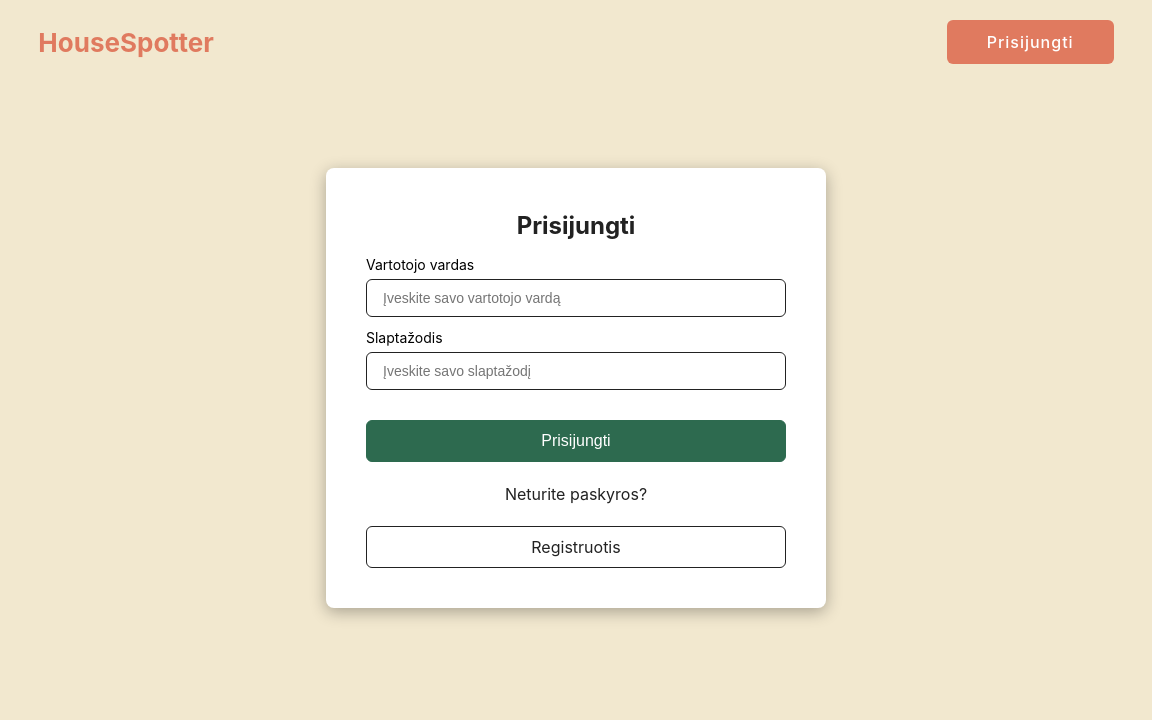
Test: Prisijungimo funkcionalumas › Prisijungimas nepavyksta su neteisingu slaptažodžiu
This screenshot has width=1152, height=720.
Type "user" into the field named "text" at (576, 298), box 366,279 -> 786,317
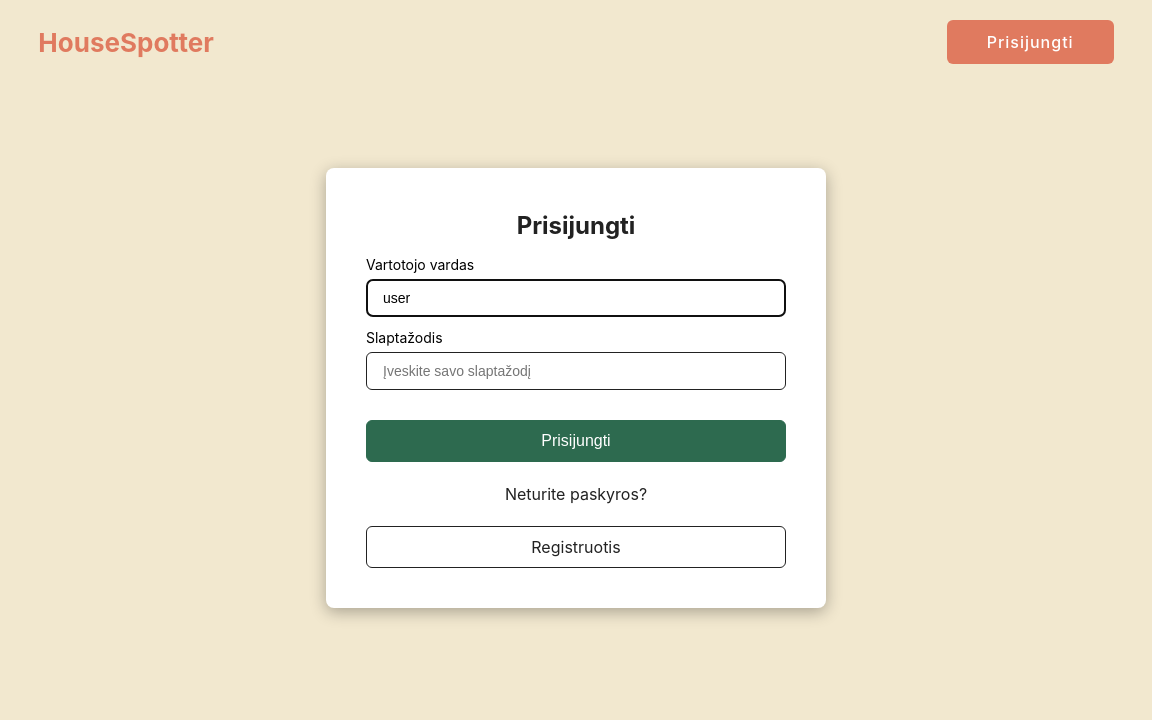
Type "wrongpassword" into the password field named "password" at (576, 371), box 366,352 -> 786,390
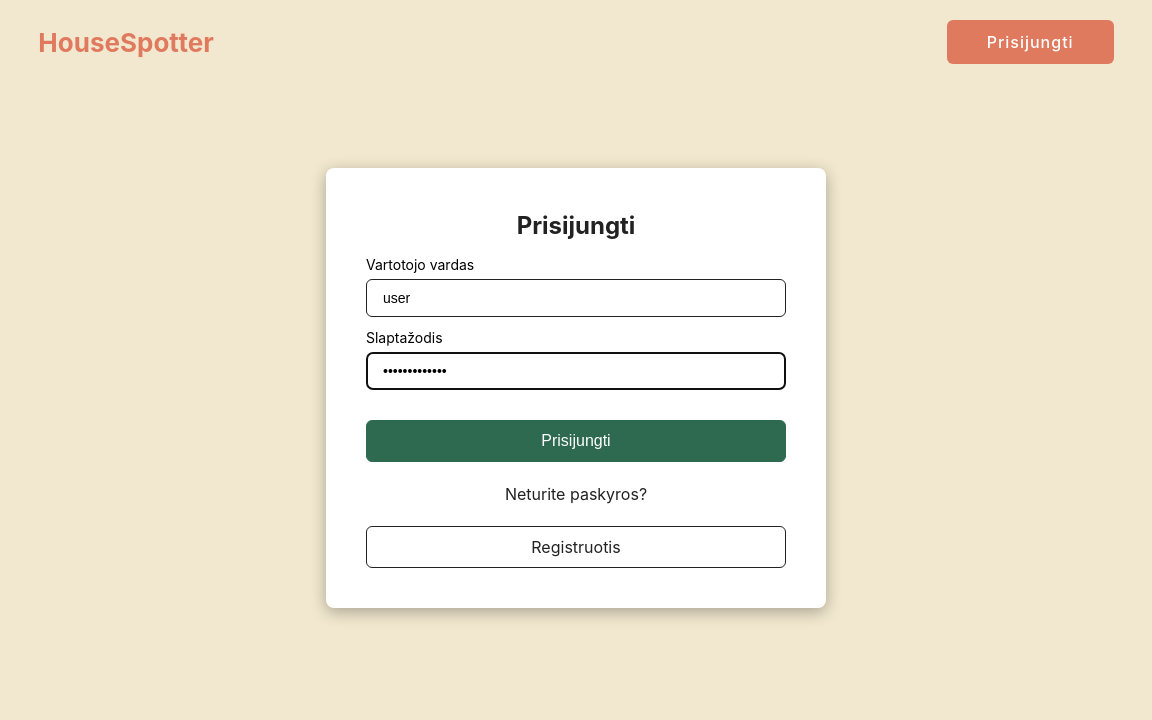
Click the submit button at (576, 441), box 366,420 -> 786,462
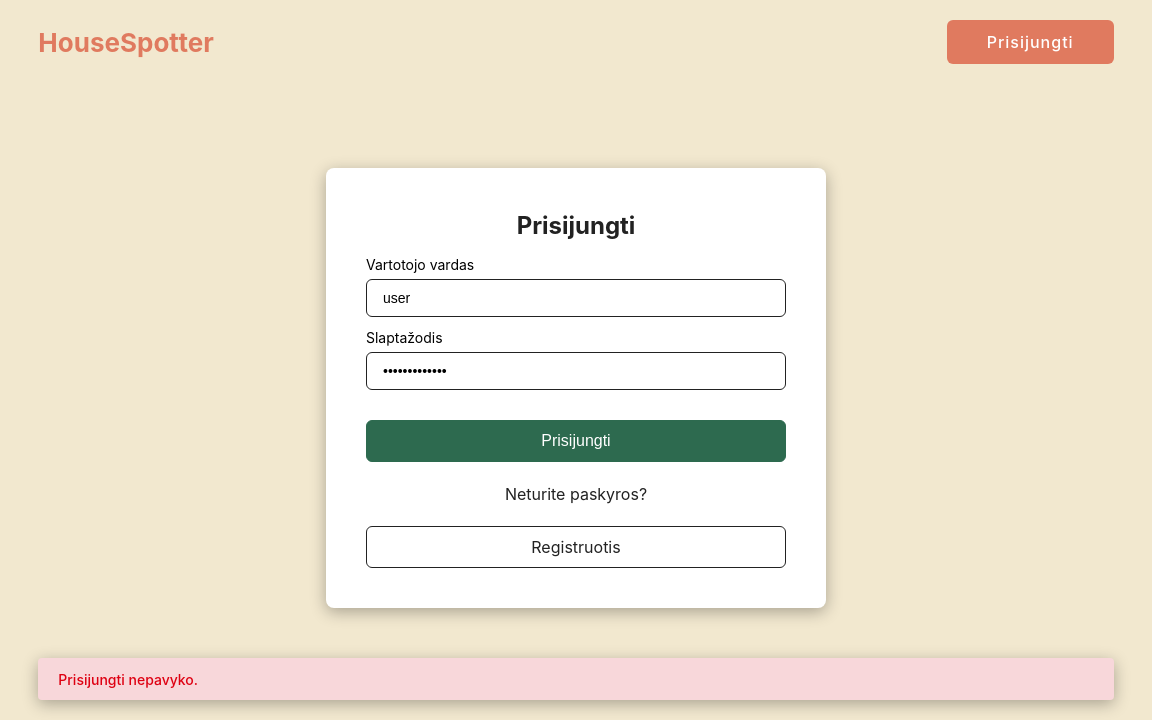
Expected: the text "Prisijungti nepavyko." is shown, 38,658 -> 1114,700
